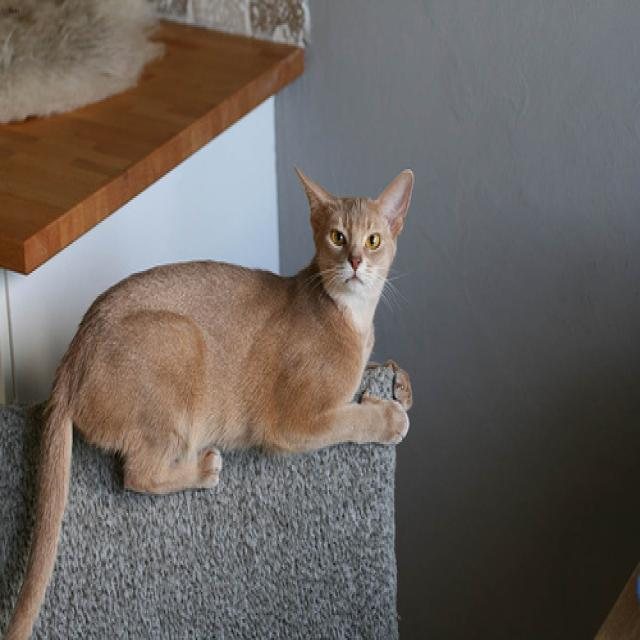Abyssinian: (295, 165, 413, 294)
